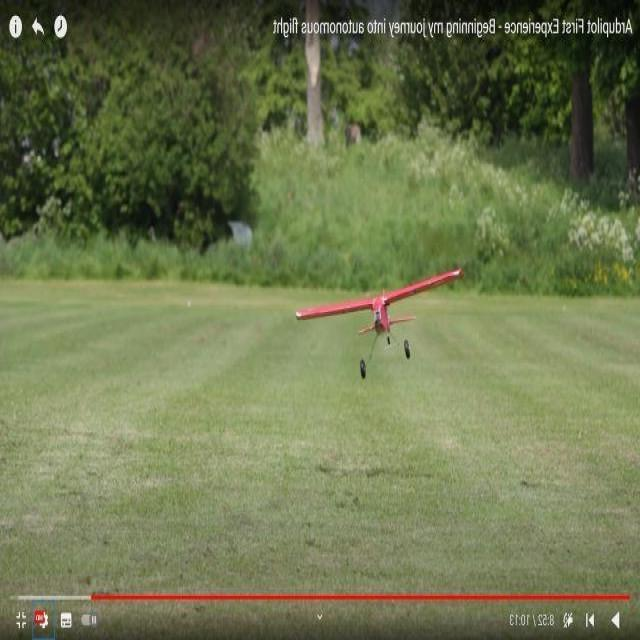Airplane: (289, 258, 470, 388)
